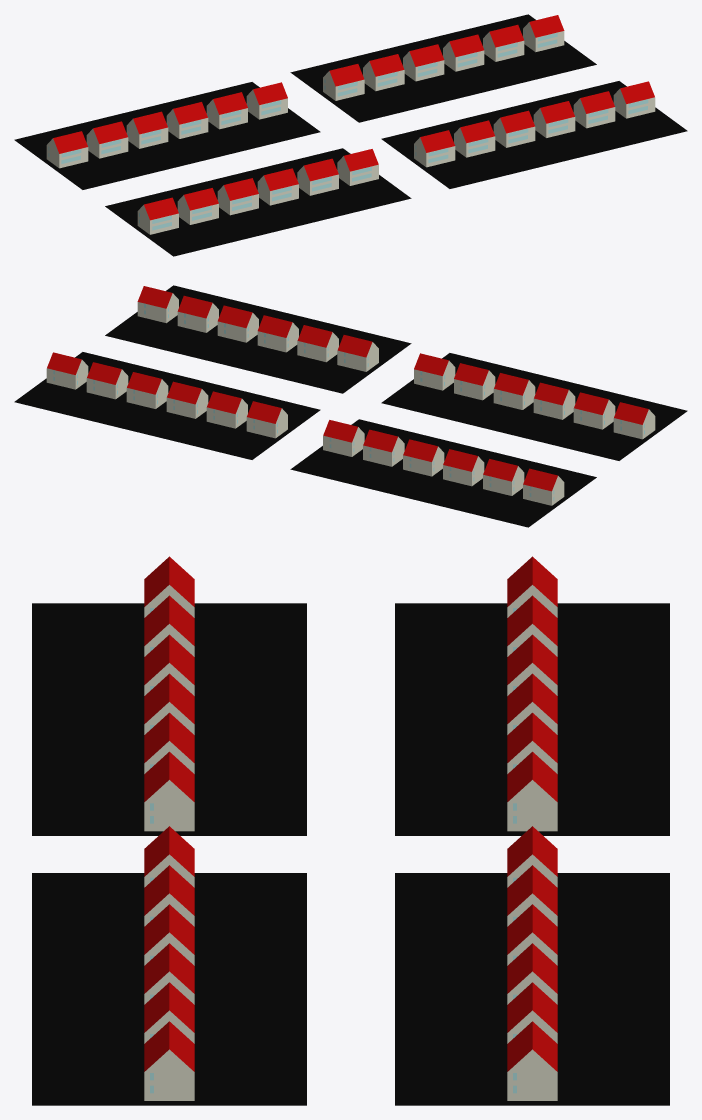
3 renders of one model, top to bottom at view 1: azimuth 30°, elevation 25°; view 2: azimuth 150°, elevation 25°; view 3: azimuth 270°, elevation 25°, orthographic. The views are drawn at different scales.
Parts seen in each view (by area): view 1: Ground, RC-R_Walls, RC-R_Roofs, RC-R-Windows; view 2: Ground, RC-R_Walls, RC-R_Roofs, RC-R-Windows; view 3: Ground, RC-R_Roofs, RC-R_Walls.
Part boxes in pixels (x1,y1,x2,y2): Ground: [14, 14, 687, 256]; RC-R_Walls: [46, 22, 655, 234]; RC-R_Roofs: [53, 15, 654, 220]; RC-R-Windows: [48, 30, 648, 230]; Ground: [14, 285, 687, 527]; RC-R_Walls: [46, 293, 655, 505]; RC-R_Roofs: [47, 286, 648, 491]; RC-R-Windows: [53, 304, 644, 500]; Ground: [32, 603, 669, 1105]; RC-R_Roofs: [144, 556, 557, 1071]; RC-R_Walls: [144, 585, 557, 1100].
Bounding box in the file's own units: 216 × 10.34 × 116.
